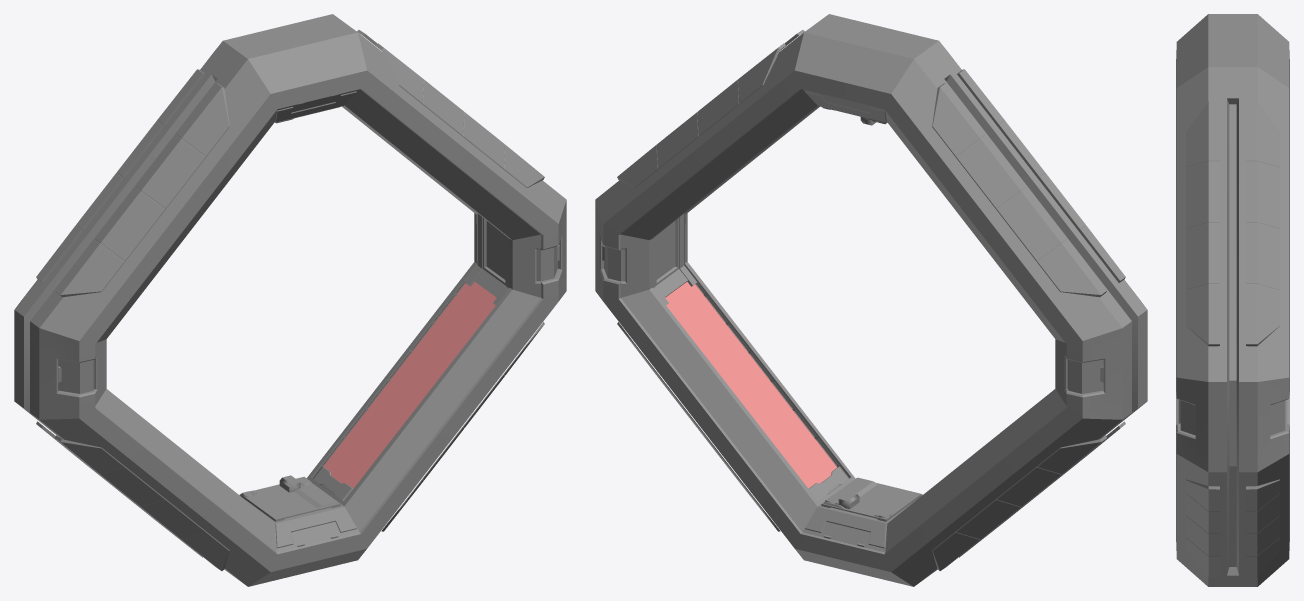
File: S_Envi_Fyz_Show_04a.gltf
3 renders of one model, left to right at view 1: azimuth 30°, elevation 25°; view 2: azimuth 150°, elevation 25°; view 3: azimuth 270°, elevation 25°, orthographic.
Parts seen in each view (by area): view 1: S_Envi_Fyz_Show_04a; view 2: S_Envi_Fyz_Show_04a; view 3: S_Envi_Fyz_Show_04a.
Boxes of the visible parts, bbox=[...] form: S_Envi_Fyz_Show_04a: bbox=[14, 14, 566, 586]; S_Envi_Fyz_Show_04a: bbox=[595, 14, 1147, 586]; S_Envi_Fyz_Show_04a: bbox=[1176, 14, 1289, 586].
Size of the model in its own units: 0.8793 by 0.8418 by 0.167.
